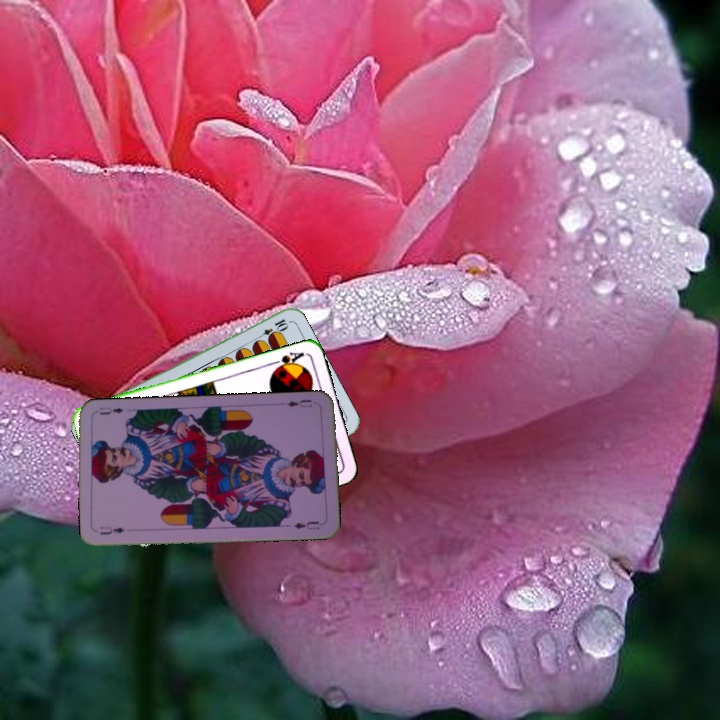E10: (252, 315, 291, 343)
EU: (283, 396, 315, 410), (96, 523, 127, 537)
SA: (268, 348, 307, 373)
